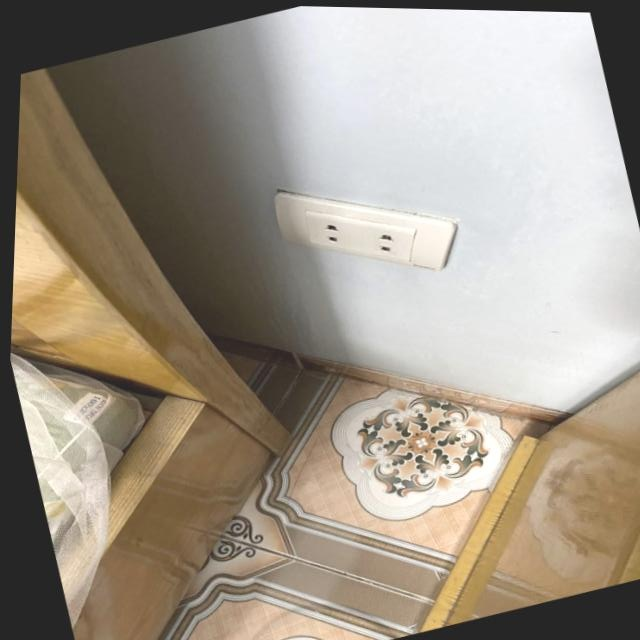outlet: (265, 148, 469, 311)
